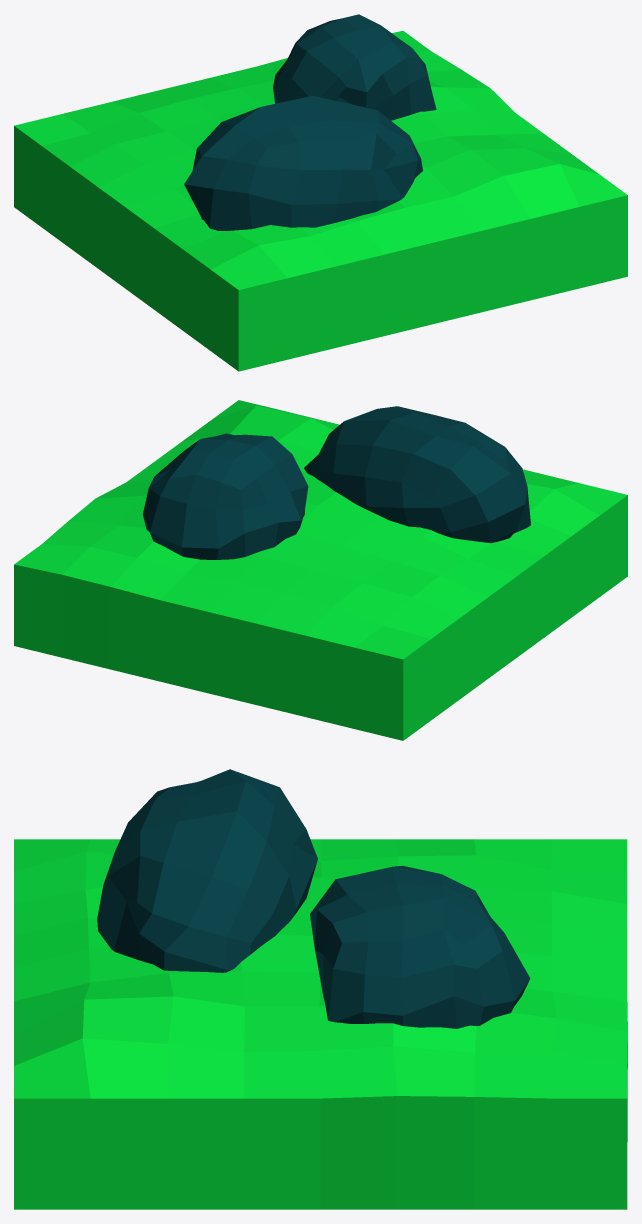
Rendered from Islands2.fbx.
3 renders of one model, top to bottom at view 1: azimuth 30°, elevation 25°; view 2: azimuth 150°, elevation 25°; view 3: azimuth 270°, elevation 25°, orthographic. The views are drawn at different scales.
Visible parts, largest first — view 1: Cube, Cube.001, Cube.002; view 2: Cube, Cube.001, Cube.002; view 3: Cube, Cube.001, Cube.002.
Part boxes in pixels (left/top/right/bottom): Cube: left=14, top=31, right=627, bottom=371; Cube.001: left=184, top=95, right=422, bottom=230; Cube.002: left=273, top=14, right=436, bottom=120; Cube: left=14, top=400, right=627, bottom=740; Cube.001: left=304, top=406, right=530, bottom=543; Cube.002: left=143, top=433, right=308, bottom=559; Cube: left=14, top=839, right=627, bottom=1209; Cube.001: left=97, top=769, right=317, bottom=972; Cube.002: left=310, top=865, right=530, bottom=1028.
Bounding box in the file's own units: 504 × 219 × 500.
